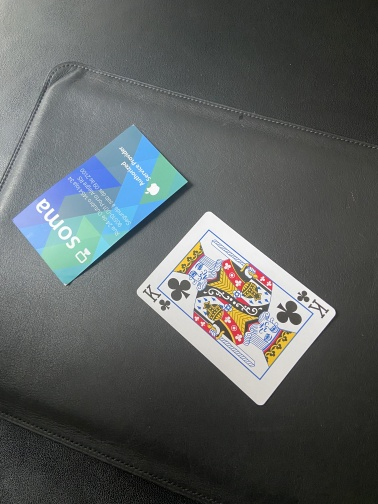king: (134, 210, 338, 409)
